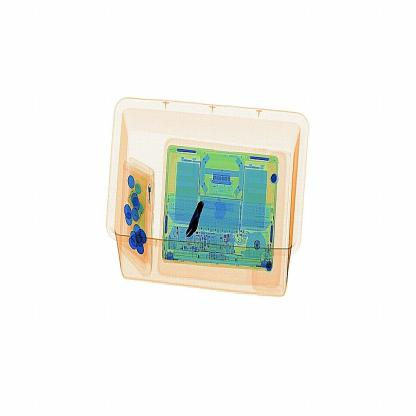knife: (186, 196, 206, 244)
